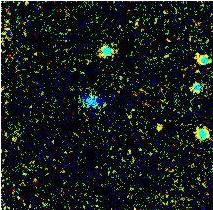star: (144, 113, 174, 143)
